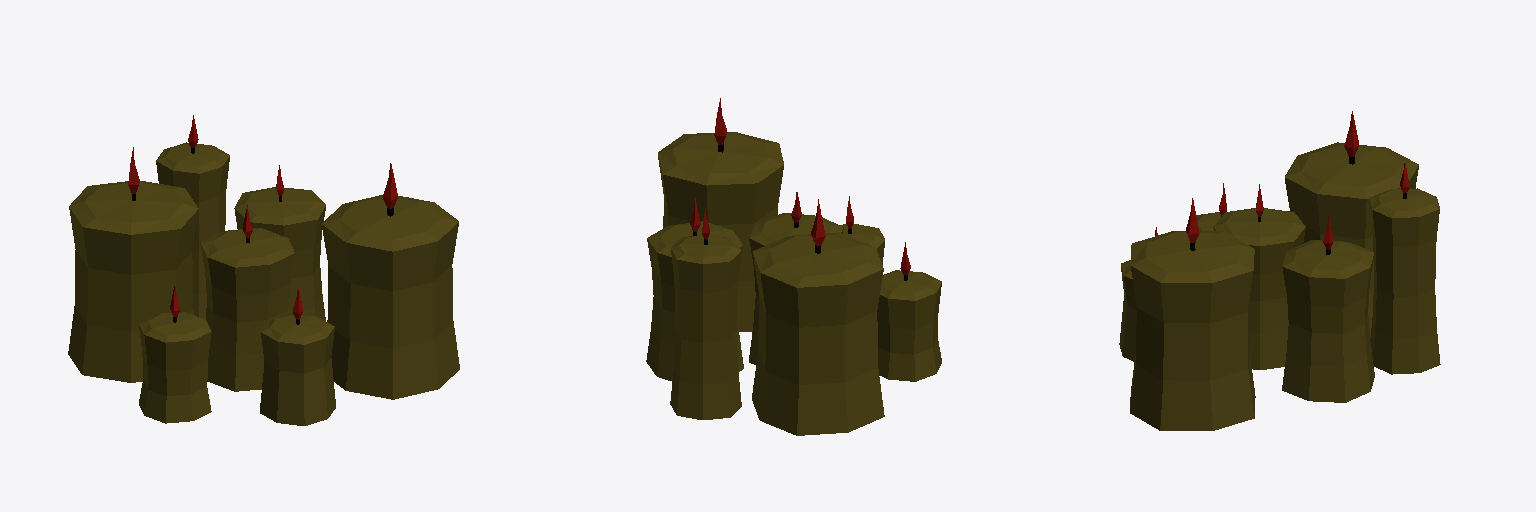
File: Candles_1.obj
3 views of the same model, side by side, from view 1: azimuth 30°, elevation 25°; view 2: azimuth 150°, elevation 25°; view 3: azimuth 270°, elevation 25° (orthographic).
Parts seen in each view (by area): view 1: Candles_1_Cube.003; view 2: Candles_1_Cube.003; view 3: Candles_1_Cube.003.
Boxes of the visible parts, x1=… form: Candles_1_Cube.003: x1=68, y1=115, x2=459, y2=425; Candles_1_Cube.003: x1=646, y1=98, x2=941, y2=435; Candles_1_Cube.003: x1=1119, y1=111, x2=1440, y2=430.
Size of the model in its own units: 0.881 by 0.6067 by 0.8436.